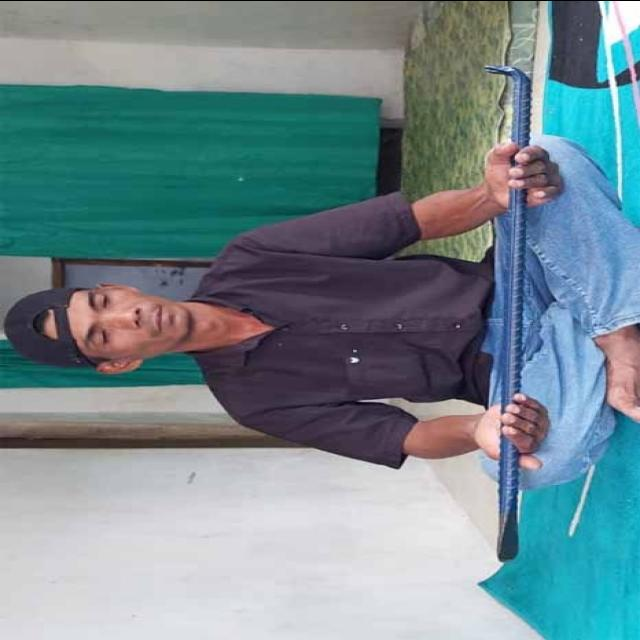Linggis: (483, 67, 538, 561)
